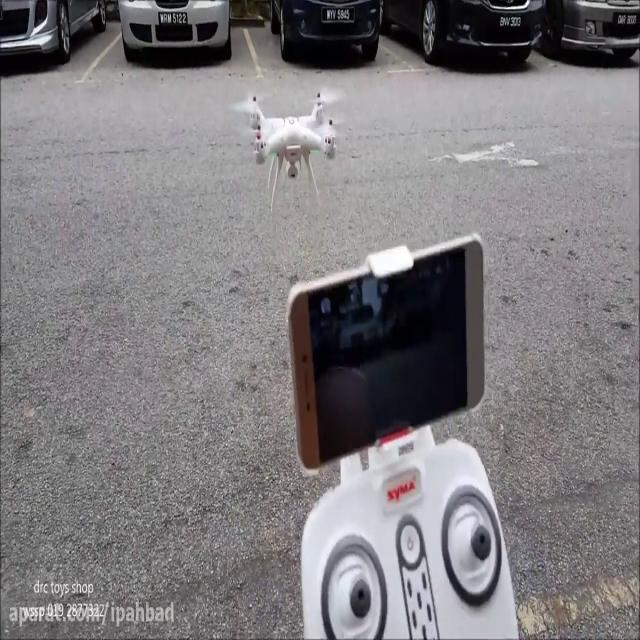drone: (228, 78, 352, 217)
